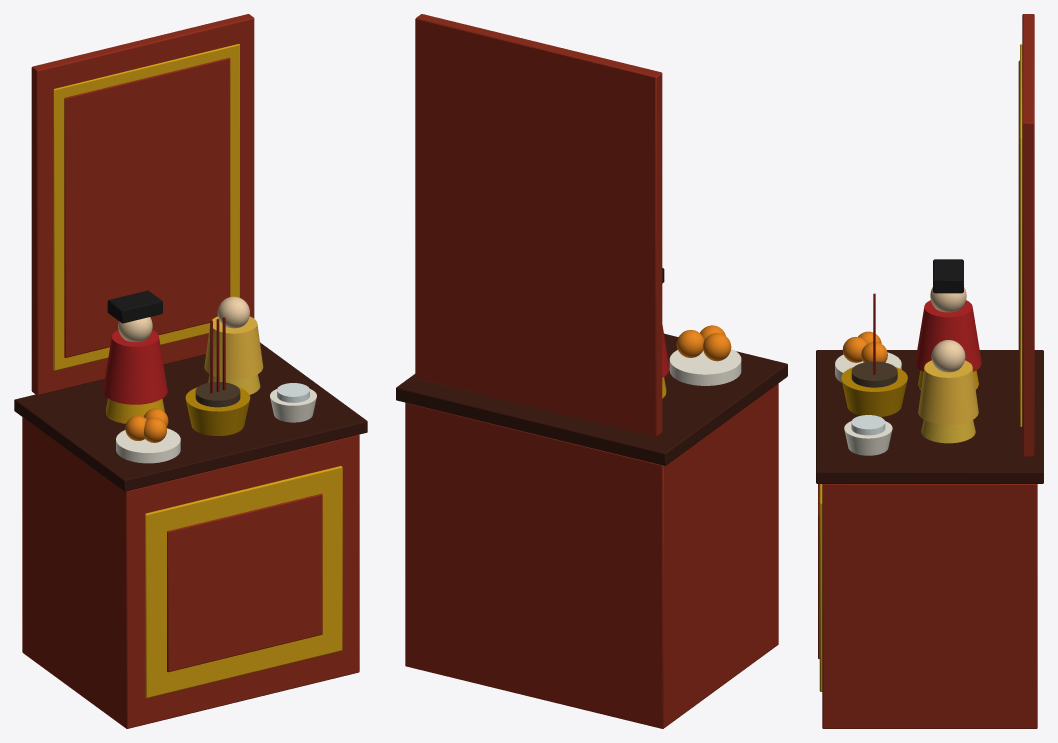
The model's file is BanThoThanTai.glb.
3 views of the same model, side by side, from view 1: azimuth 30°, elevation 25°; view 2: azimuth 150°, elevation 25°; view 3: azimuth 270°, elevation 25° (orthographic). The views are drawn at different scales.
Parts seen in each view (by area): view 1: BanThoThanTai; view 2: BanThoThanTai; view 3: BanThoThanTai.
Boxes of the visible parts, bbox=[...] form: BanThoThanTai: bbox=[14, 14, 367, 728]; BanThoThanTai: bbox=[396, 14, 787, 728]; BanThoThanTai: bbox=[816, 14, 1043, 728].
Bounding box in the file's own units: 0.47 × 1.08 × 0.37.
